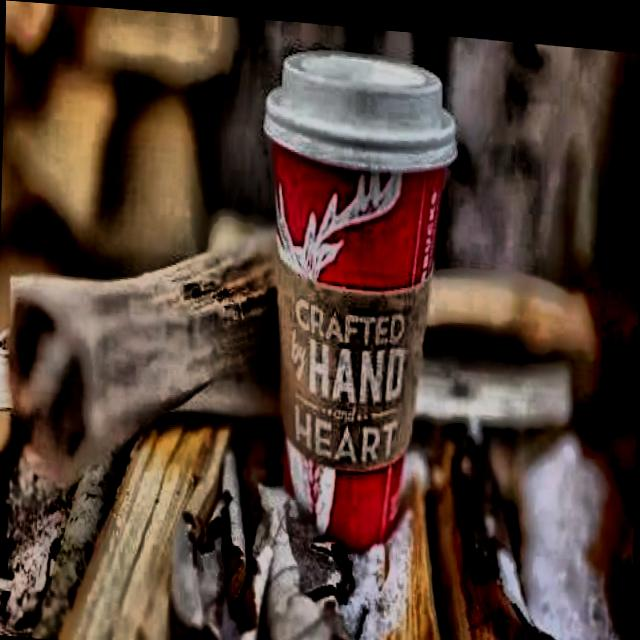Cup: (241, 79, 457, 571)
